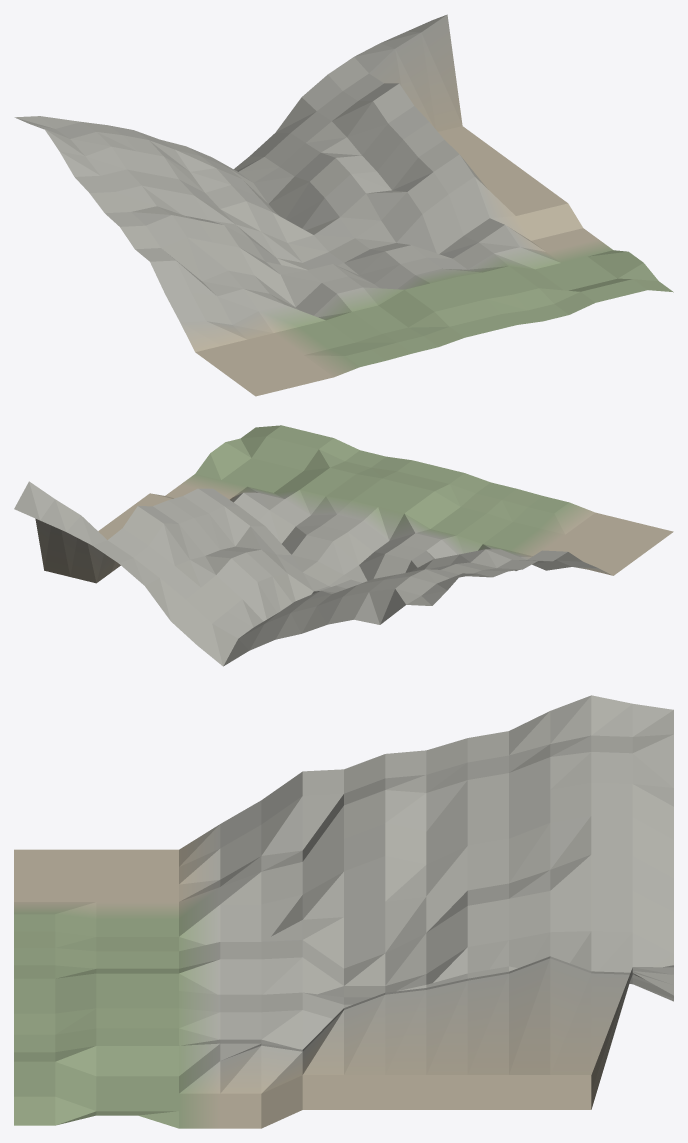
3 renders of one model, top to bottom at view 1: azimuth 30°, elevation 25°; view 2: azimuth 150°, elevation 25°; view 3: azimuth 270°, elevation 25°, orthographic. The views are drawn at different scales.
Size of the model in its own units: 32 by 9.11 by 32.
